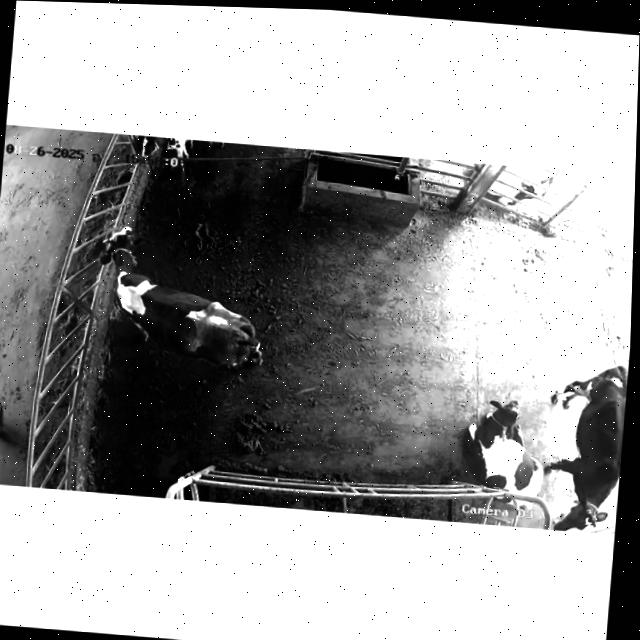stand: (535, 345, 630, 535)
